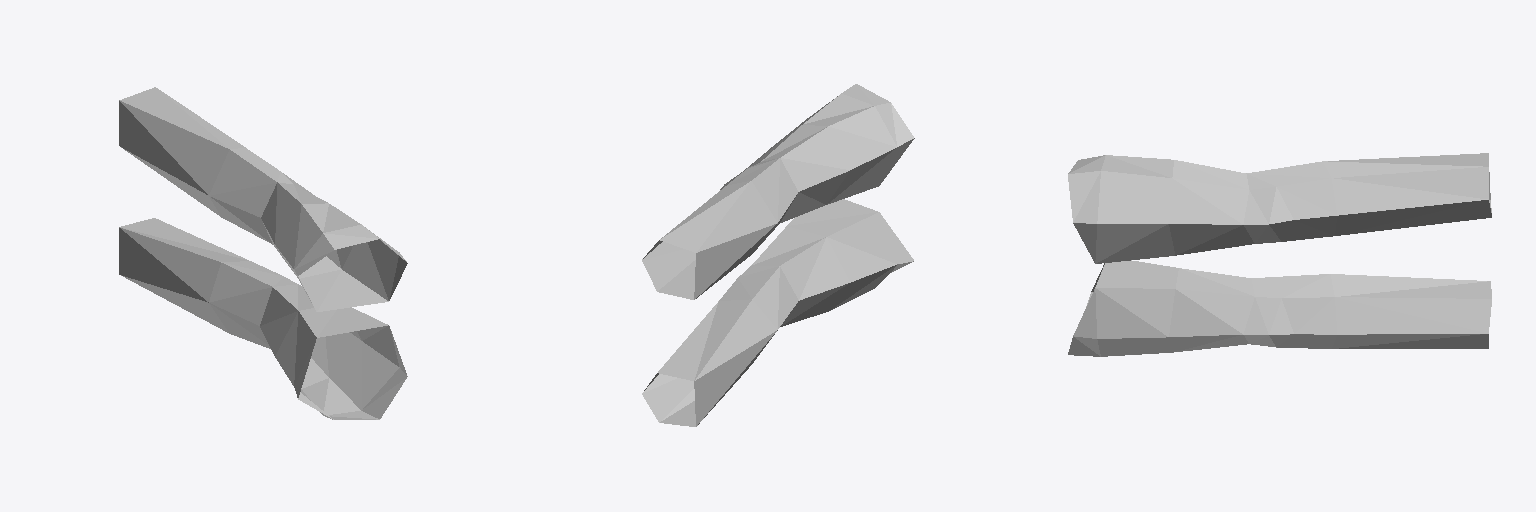
3 views of the same model, side by side, from view 1: azimuth 30°, elevation 25°; view 2: azimuth 150°, elevation 25°; view 3: azimuth 270°, elevation 25° (orthographic).
Visible parts, largest first — view 1: vr_thigh_001; view 2: vr_thigh_001; view 3: vr_thigh_001.
Boxes of the visible parts, x1,y1,x2,y2 form: vr_thigh_001: [119, 87, 407, 419]; vr_thigh_001: [642, 84, 914, 426]; vr_thigh_001: [1068, 153, 1491, 356].
Size of the model in its own units: 15.45 by 26.25 by 54.27.